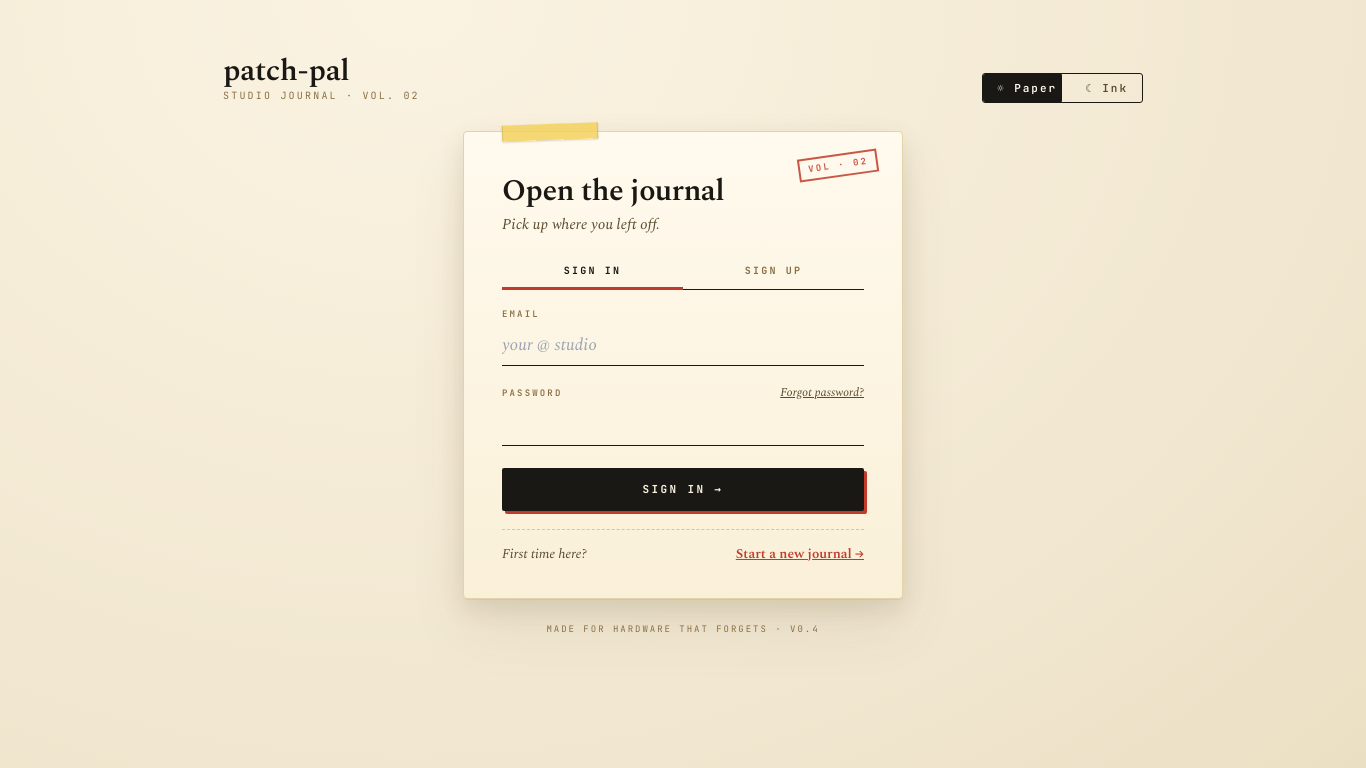
Scenario: Auth page › sign-up with mismatched passwords shows validation error
Click the tab "Sign up".
click(774, 272)  # box top-left (683, 254), bottom-right (864, 290)
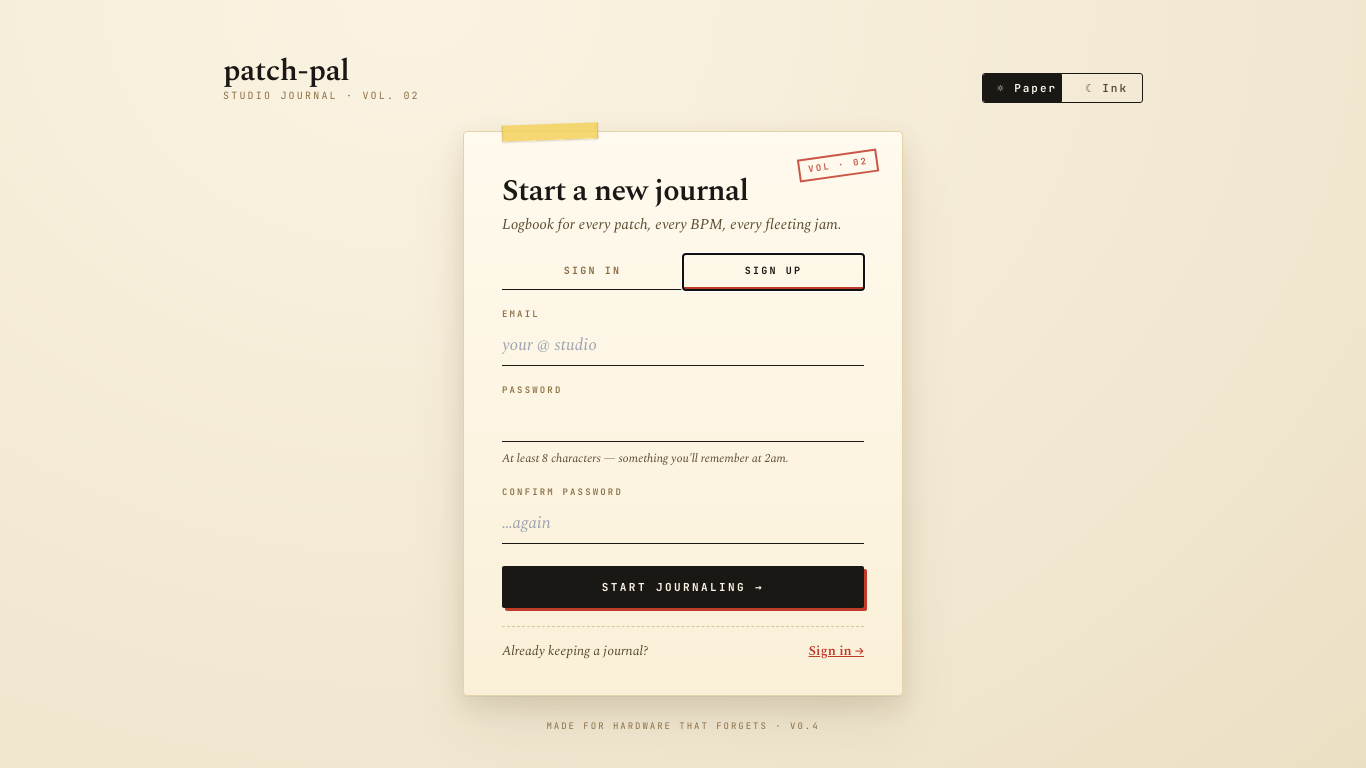
Type "new@example.com" into the field labelled "Email".
click(683, 345); type("new@example.com")  # box top-left (502, 325), bottom-right (864, 366)
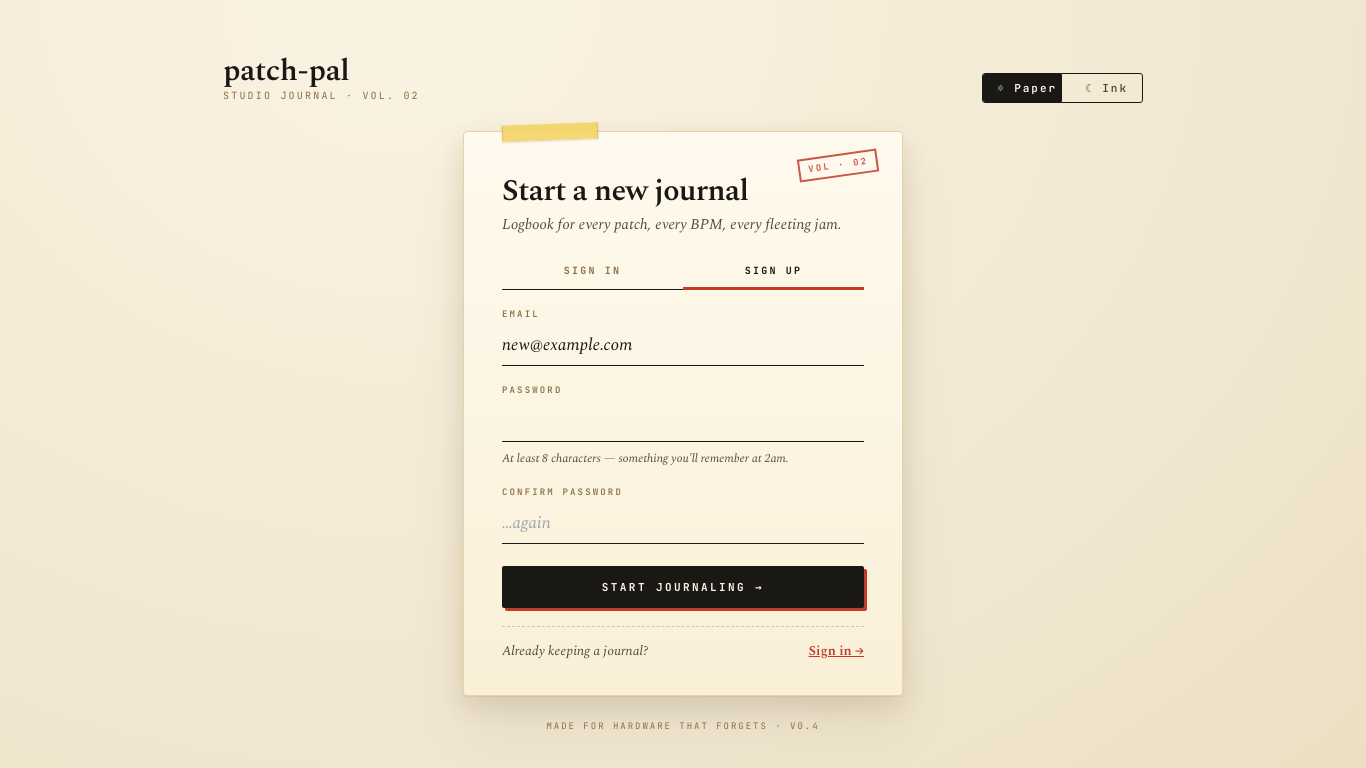
Type "securepass" into the password field labelled "Password".
click(683, 421); type("securepass")  # box top-left (502, 401), bottom-right (864, 442)
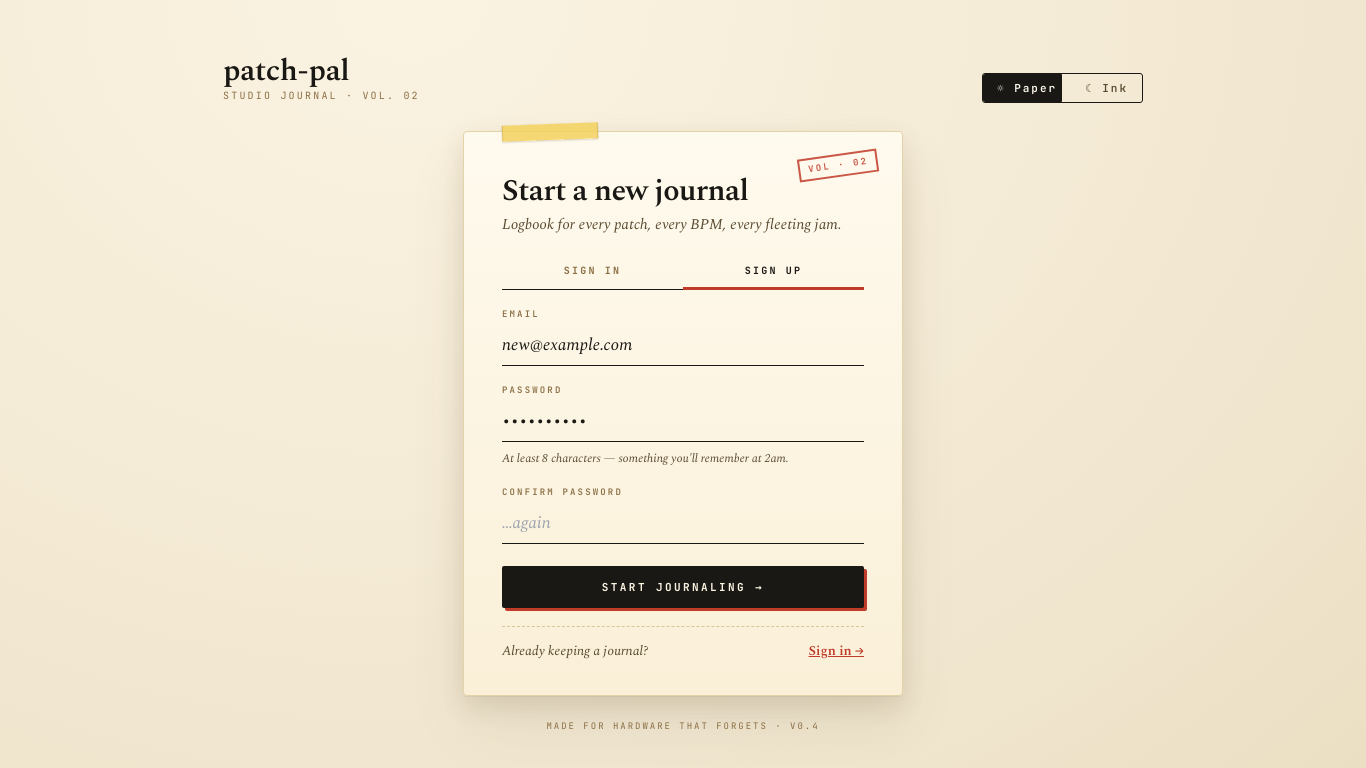
Type "different" into the password field labelled "Confirm password".
click(683, 523); type("different")  # box top-left (502, 503), bottom-right (864, 544)
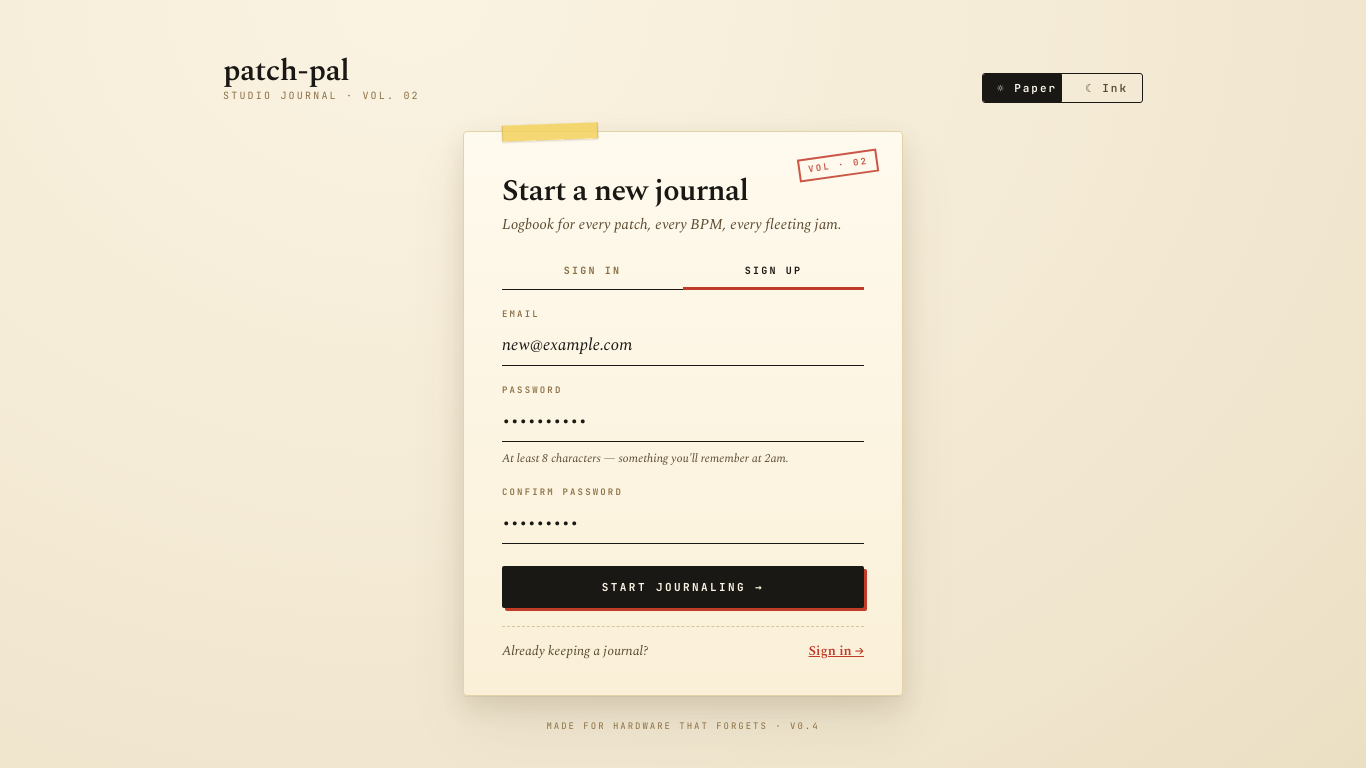
Click the button "Start journaling →".
click(683, 587)  # box top-left (502, 566), bottom-right (864, 608)
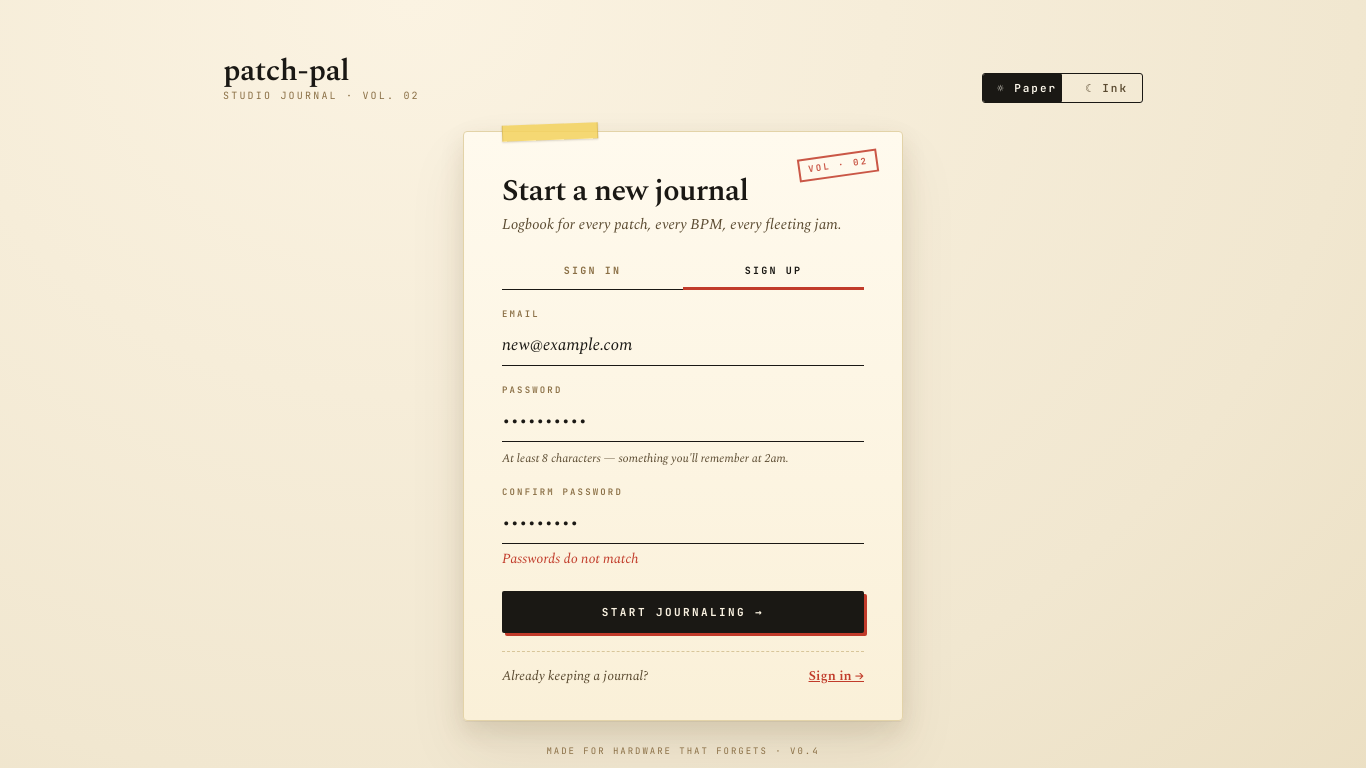
Now the text "Passwords do not match" is shown, box top-left (502, 548), bottom-right (638, 568)
